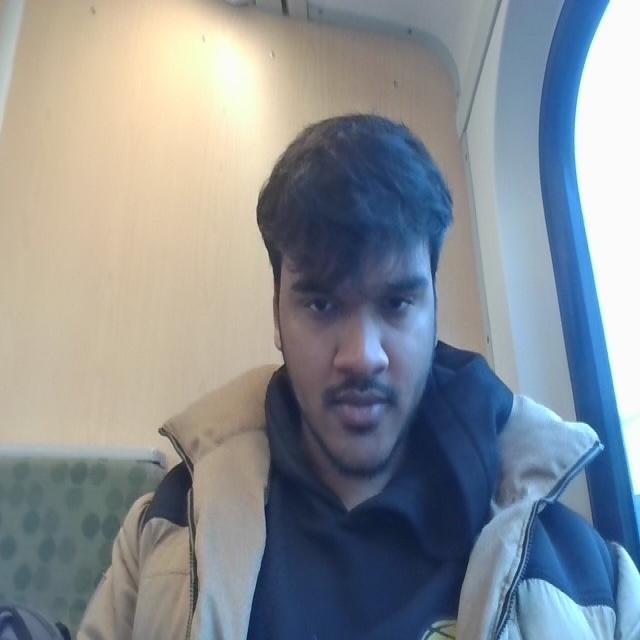no hat: (232, 111, 456, 227)
